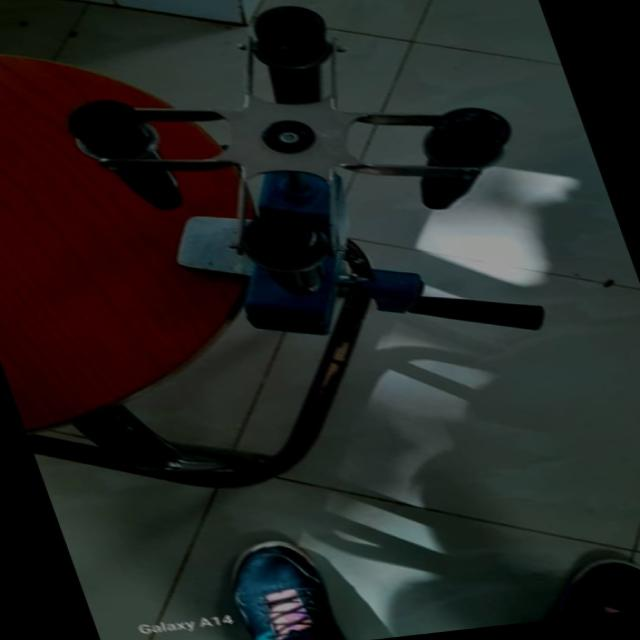Centrifuge: (30, 0, 617, 371)
